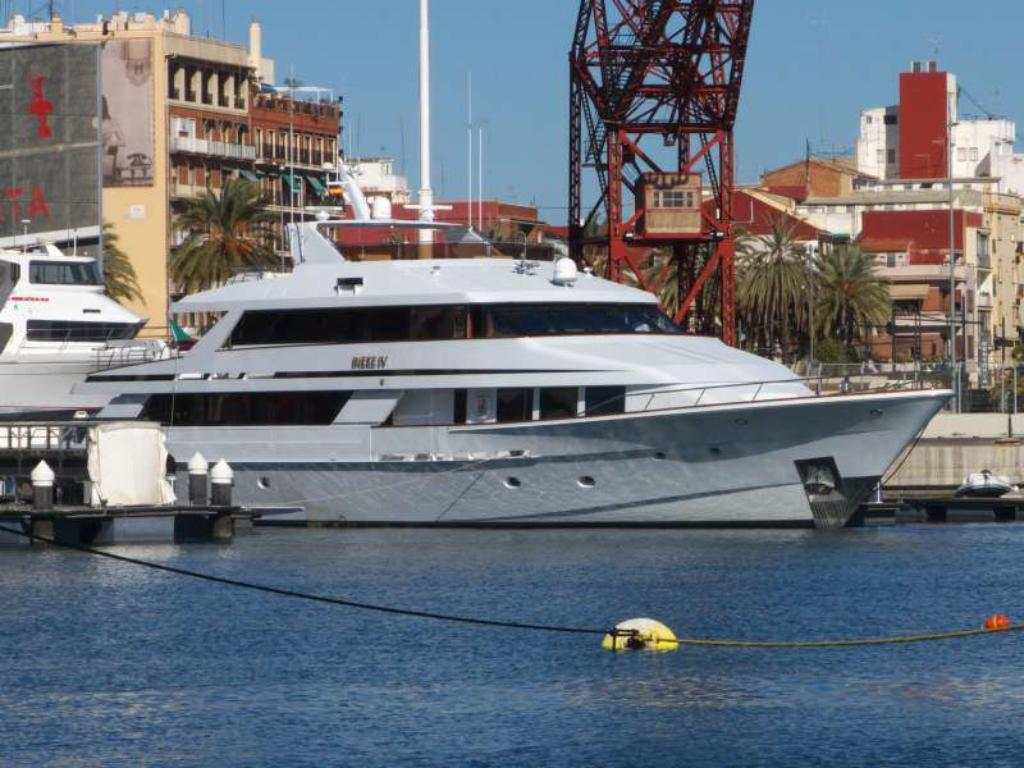PassengerShip: (74, 152, 954, 546)
